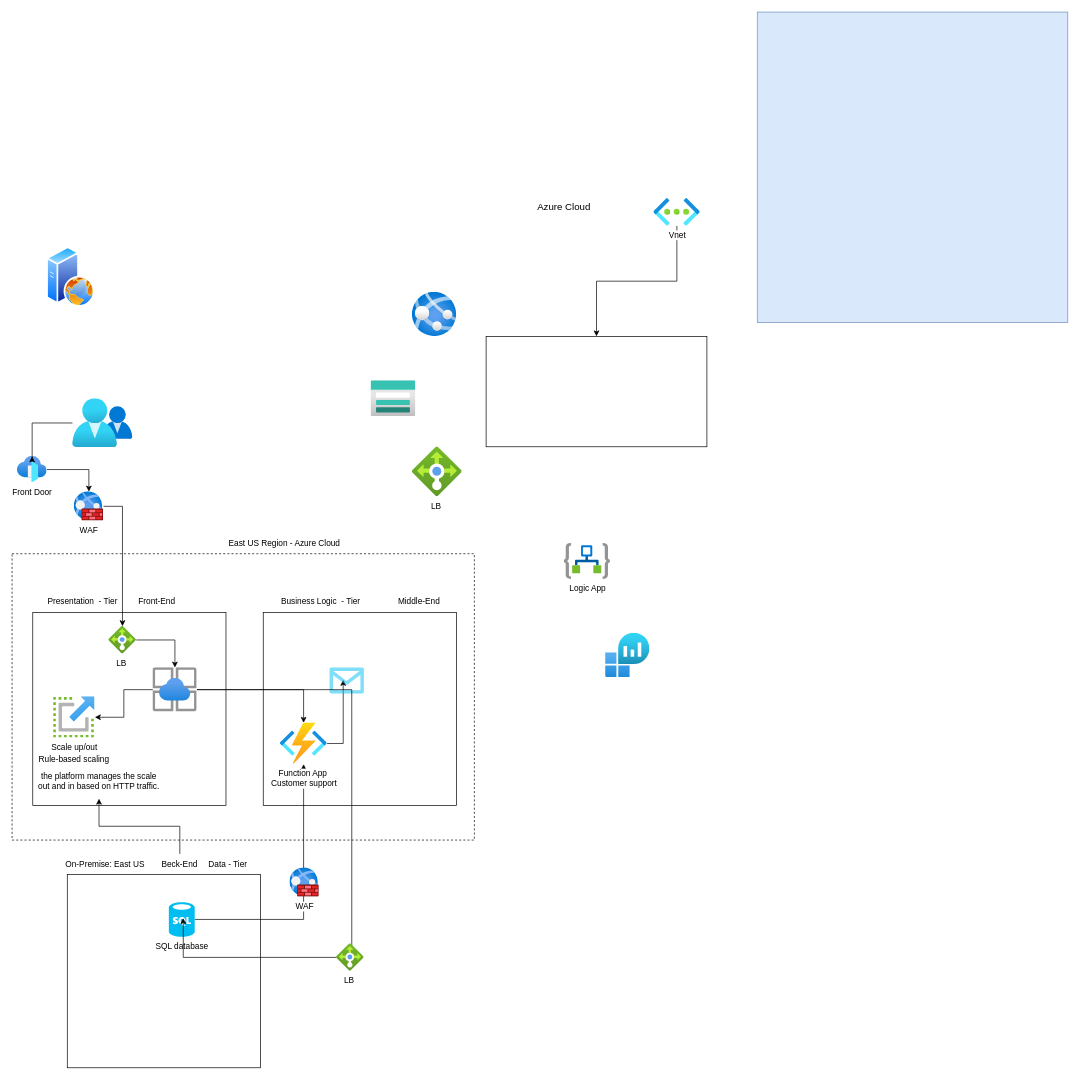
The diagram is 1080 pixels wide and 1080 high, and some of its shapes have lost their labels. Here are the shapes that lost their labels. From the top down, the centre of each, then its label:
At point (70, 276): "IIS Webserver".
At point (393, 398): "Azure Storage".
At point (102, 422): "Customers".
At point (627, 655): "Log Analytic Workspace".
At point (174, 689): "Azure App Services .NET managed service".
At point (346, 680): "Push Notification to customer".
